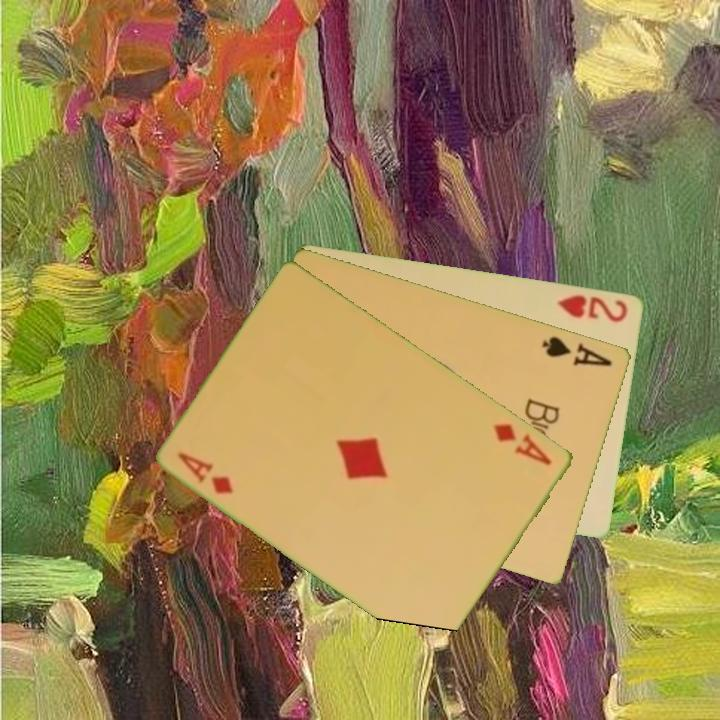2h: (554, 291, 631, 325)
Ad: (490, 419, 555, 469), (174, 448, 237, 497)
As: (539, 332, 616, 369)
